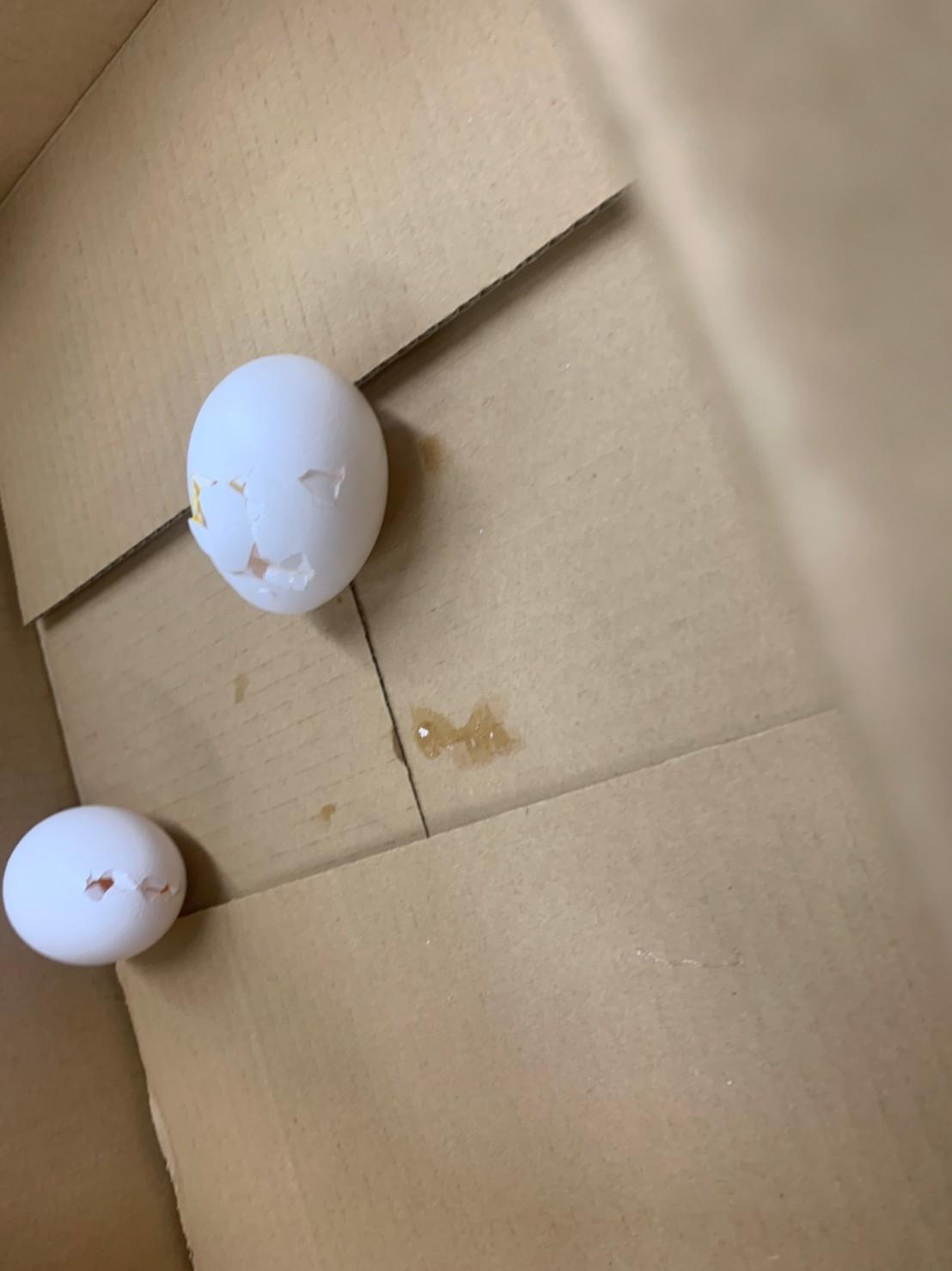egg: (177, 346, 393, 620), (0, 802, 198, 975)
